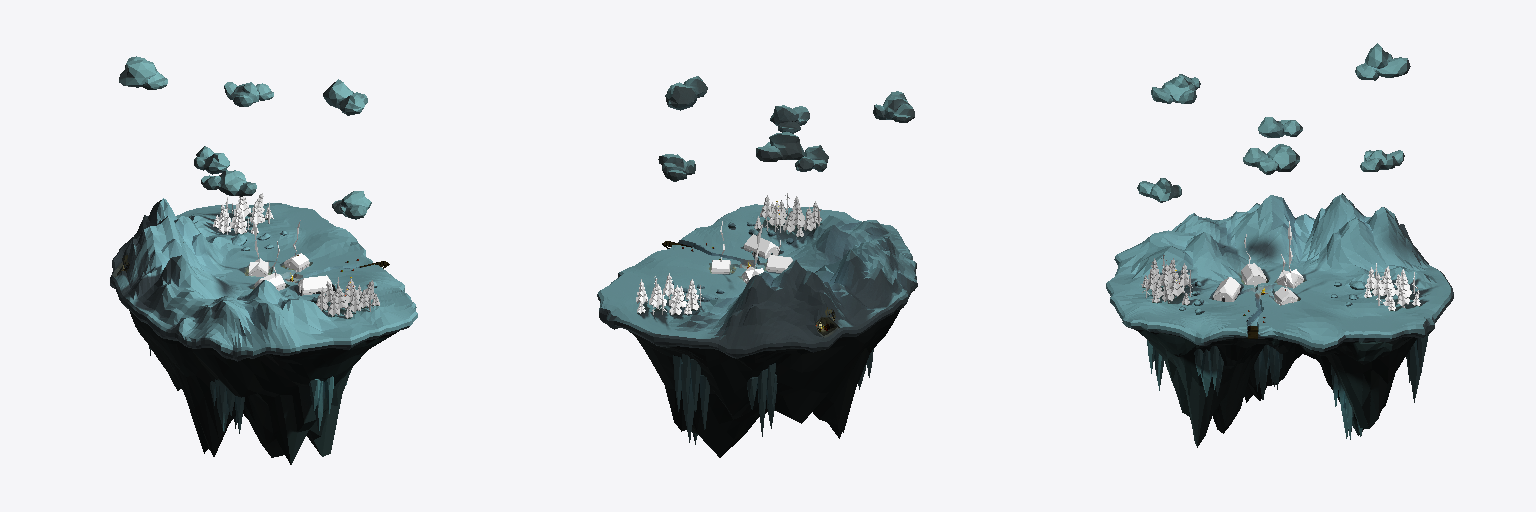
The picture shows the model from 3 angles: view 1: azimuth 30°, elevation 25°; view 2: azimuth 150°, elevation 25°; view 3: azimuth 270°, elevation 25°; orthographic projection.
Parts seen in each view (by area): view 1: IslandTop_Plane, IslandBottom_Cube.027, Clouds_Icosphere.015, IceCones_Icosphere.004, Houses_Cube.013, TreesLeft_Cube.050, TreesRight_Cube.042; view 2: IslandTop_Plane, IslandBottom_Cube.027, Clouds_Icosphere.015, IceCones_Icosphere.004, Houses_Cube.013, TreesRight_Cube.042, TreesLeft_Cube.050; view 3: IslandTop_Plane, IslandBottom_Cube.027, Clouds_Icosphere.015, IceCones_Icosphere.004, Houses_Cube.013, TreesLeft_Cube.050, TreesRight_Cube.042, Details_Cube.026.
Boxes of the visible parts, <box> form: IslandTop_Plane: <box>110,198,417,361</box>; IslandBottom_Cube.027: <box>129,310,398,464</box>; Clouds_Icosphere.015: <box>119,56,371,219</box>; IceCones_Icosphere.004: <box>149,346,346,433</box>; Houses_Cube.013: <box>248,218,332,295</box>; TreesLeft_Cube.050: <box>316,277,379,318</box>; TreesRight_Cube.042: <box>213,193,273,234</box>; IslandTop_Plane: <box>597,204,917,358</box>; IslandBottom_Cube.027: <box>629,310,899,457</box>; Clouds_Icosphere.015: <box>658,76,914,181</box>; IceCones_Icosphere.004: <box>673,349,873,444</box>; Houses_Cube.013: <box>711,218,792,283</box>; TreesRight_Cube.042: <box>636,273,703,314</box>; TreesLeft_Cube.050: <box>754,193,821,236</box>; IslandTop_Plane: <box>1106,193,1453,351</box>; IslandBottom_Cube.027: <box>1136,330,1416,447</box>; Clouds_Icosphere.015: <box>1137,43,1410,202</box>; IceCones_Icosphere.004: <box>1147,334,1428,439</box>; Houses_Cube.013: <box>1213,221,1303,305</box>; TreesLeft_Cube.050: <box>1141,255,1192,304</box>; TreesRight_Cube.042: <box>1364,263,1420,310</box>; Details_Cube.026: <box>1179,281,1365,338</box>.
Bounding box in the file's own units: 164 × 224 × 202.
13 materials, 9 textured.